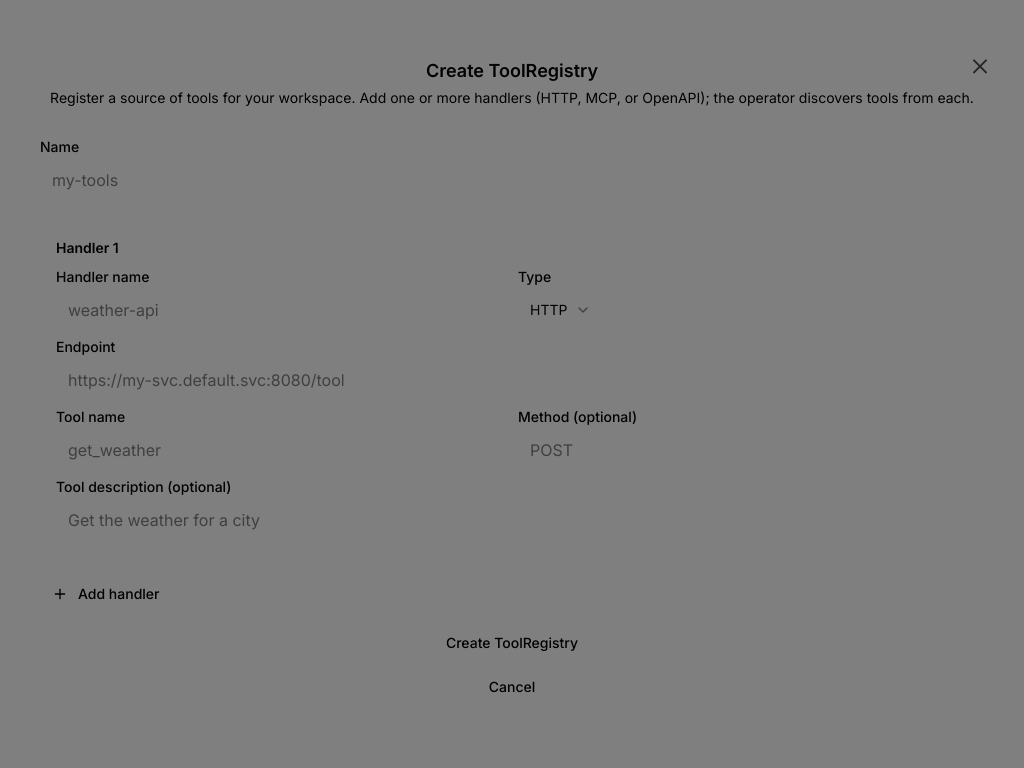
it: inline validation via ToolRegistryDialog › shows required errors on submit when name is empty
Click the button "Create ToolRegistry". click: (512, 644)
box: [40,626,984,662]
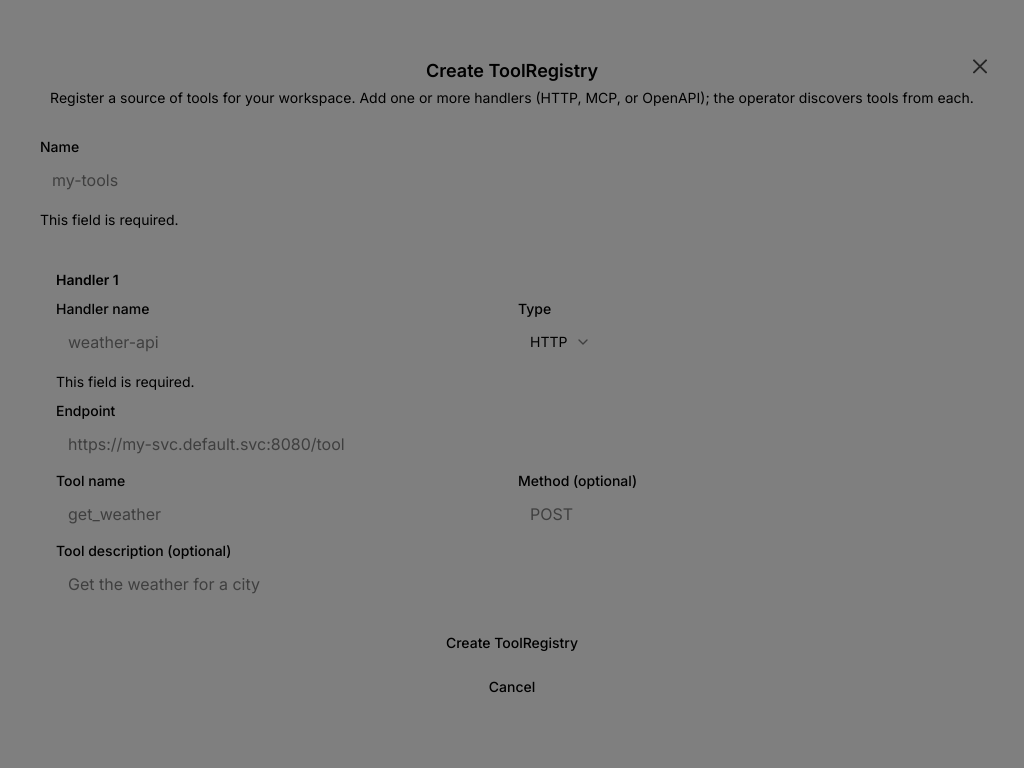
expect the 1st text "This field is required." is shown: met, box [40,211,179,228]
